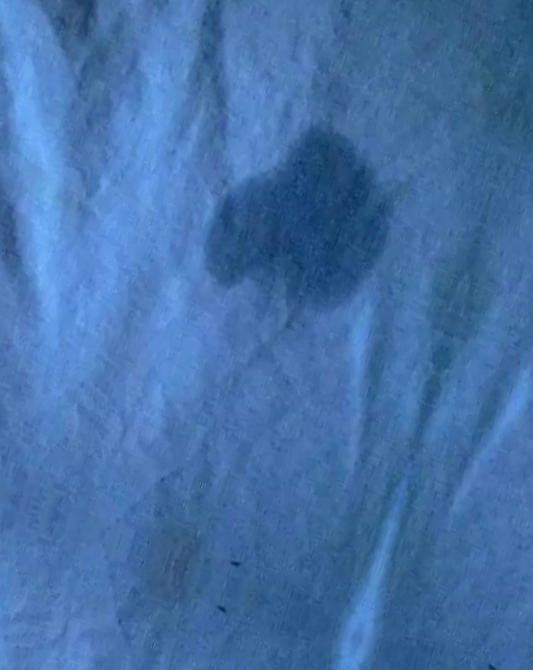stain: (206, 120, 402, 318)
